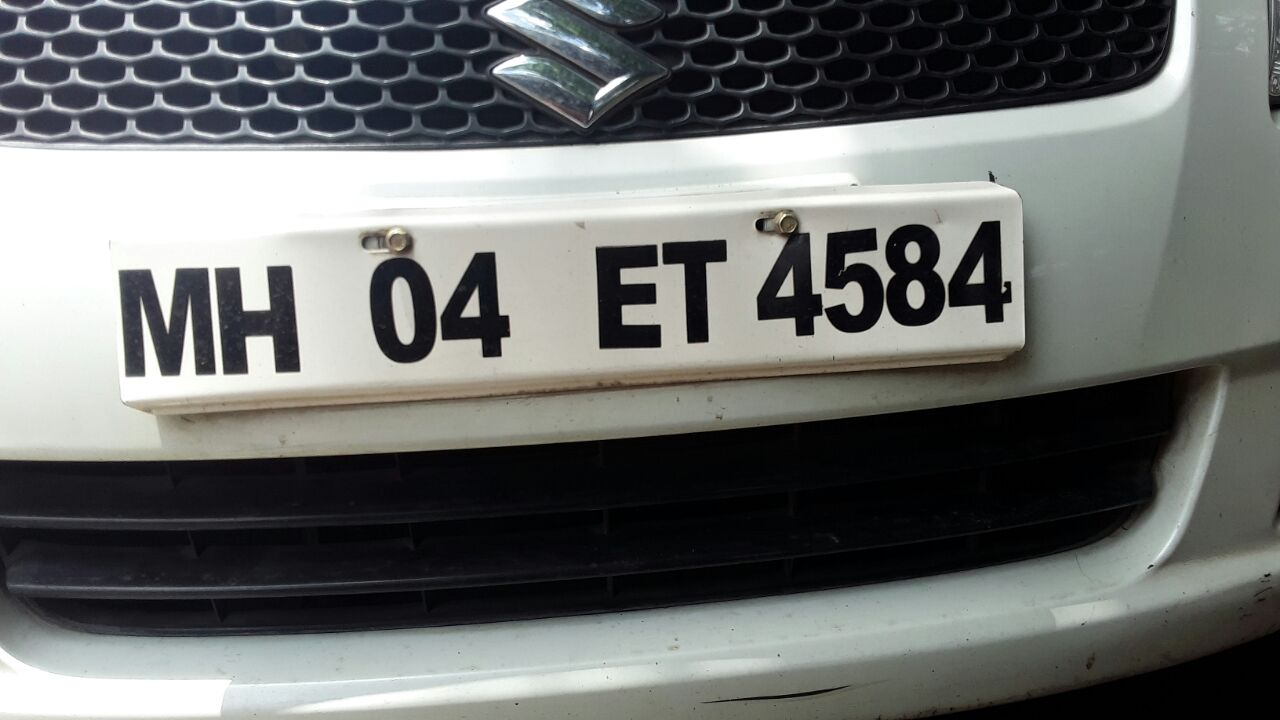licenseplate: (98, 184, 1038, 418)
